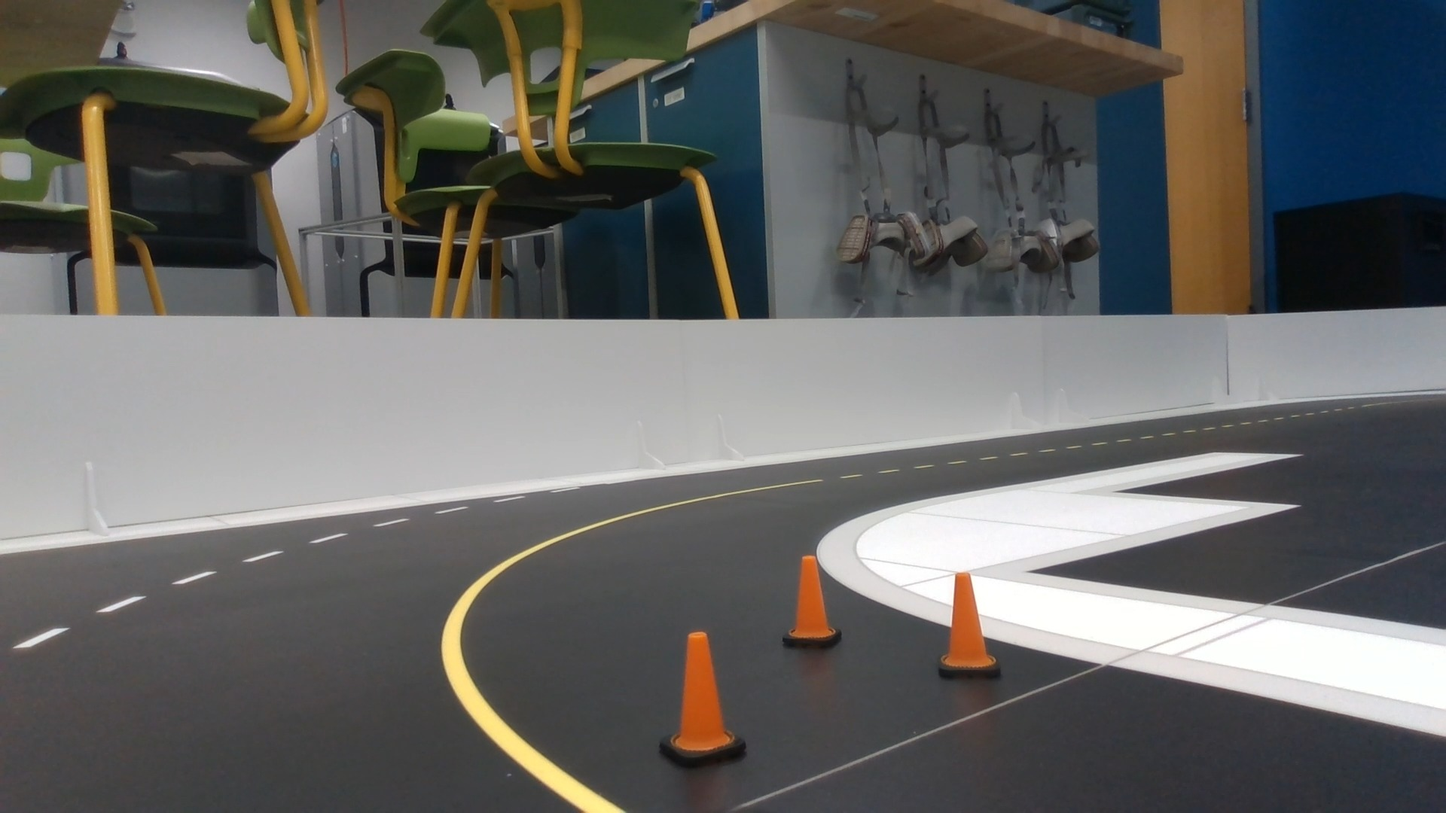Traffic Cone: (660, 634, 745, 766), (939, 573, 999, 677), (782, 556, 840, 647)
